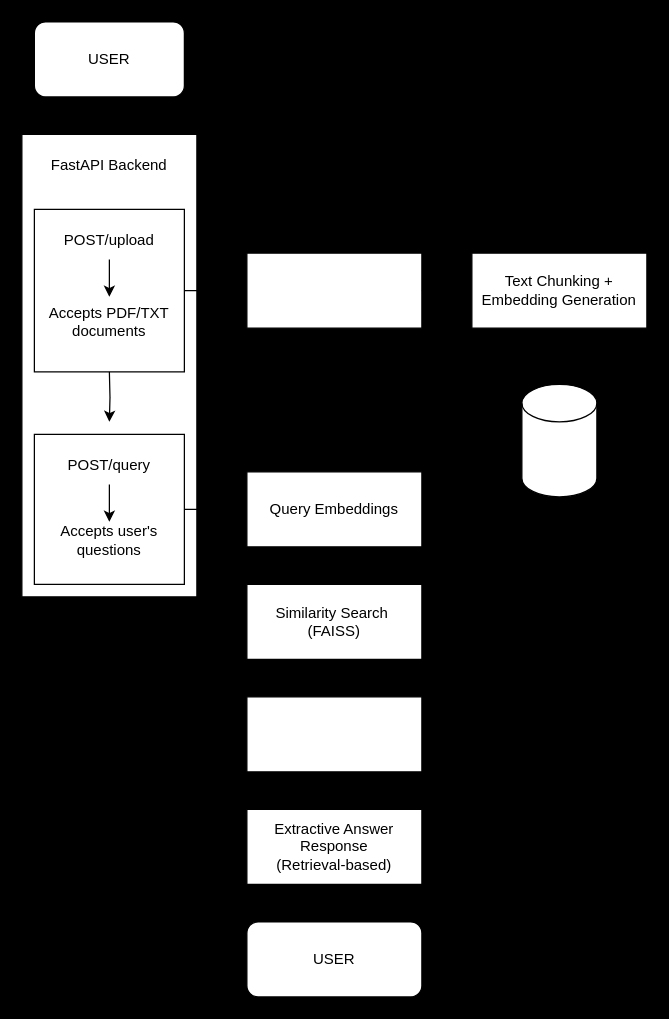
Some shapes in this 669 by 1019 pixel diagram are drawn without their labels. Each missing label, with the centre of its shape:
"Background Task (Document Ingestion)" goes at point 334,290.
"FAISS Vector Store" goes at point 559,440.
"Retrieved Relevant Chunks" goes at point 334,734.
